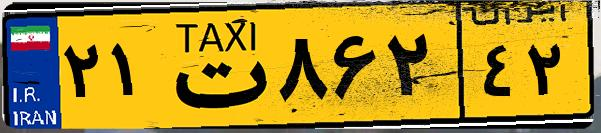1: (110, 28, 158, 98)
2: (385, 28, 445, 110), (57, 26, 110, 100), (525, 38, 570, 115)
4: (475, 38, 525, 113)
6: (330, 28, 385, 110)
8: (270, 28, 330, 110)
ت: (158, 12, 270, 120)
